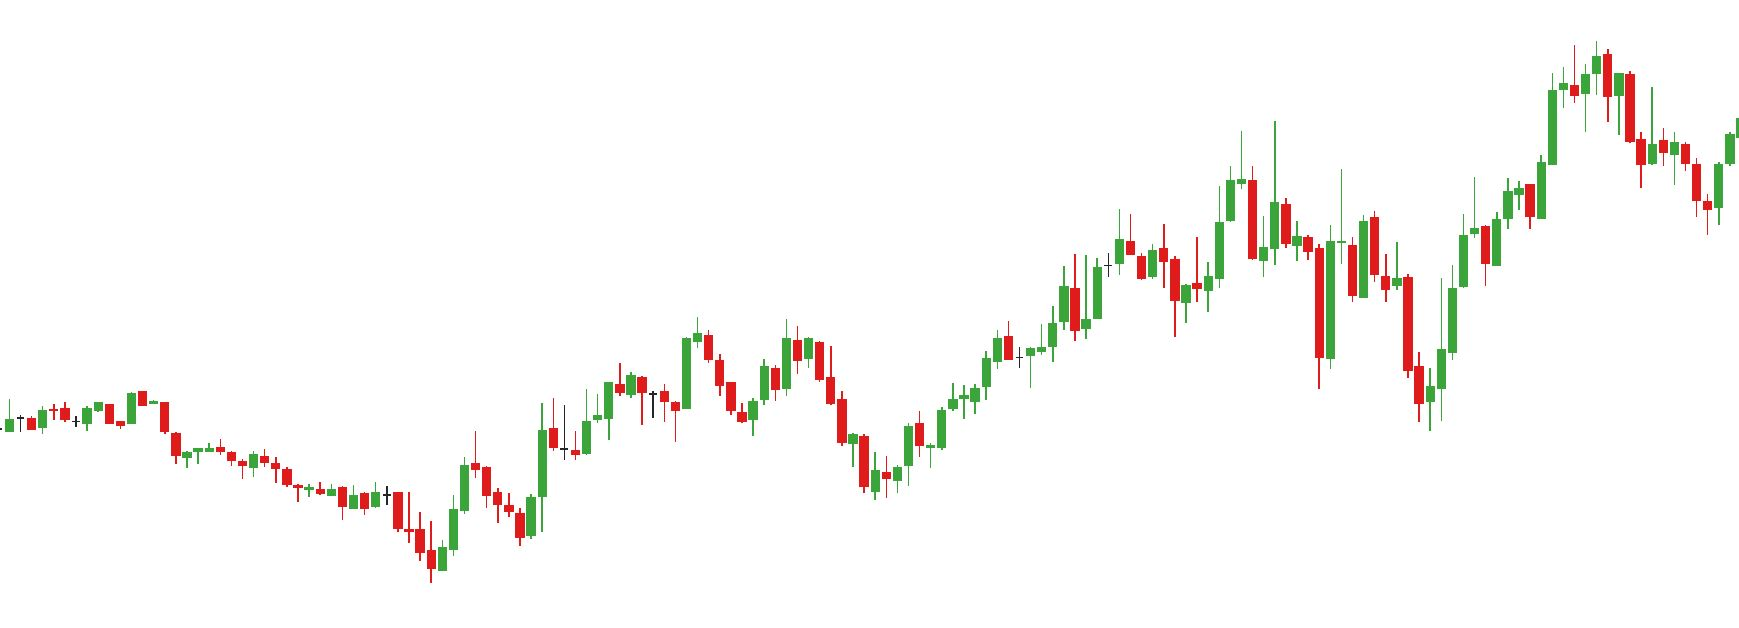buy: (1313, 285, 1450, 433)
